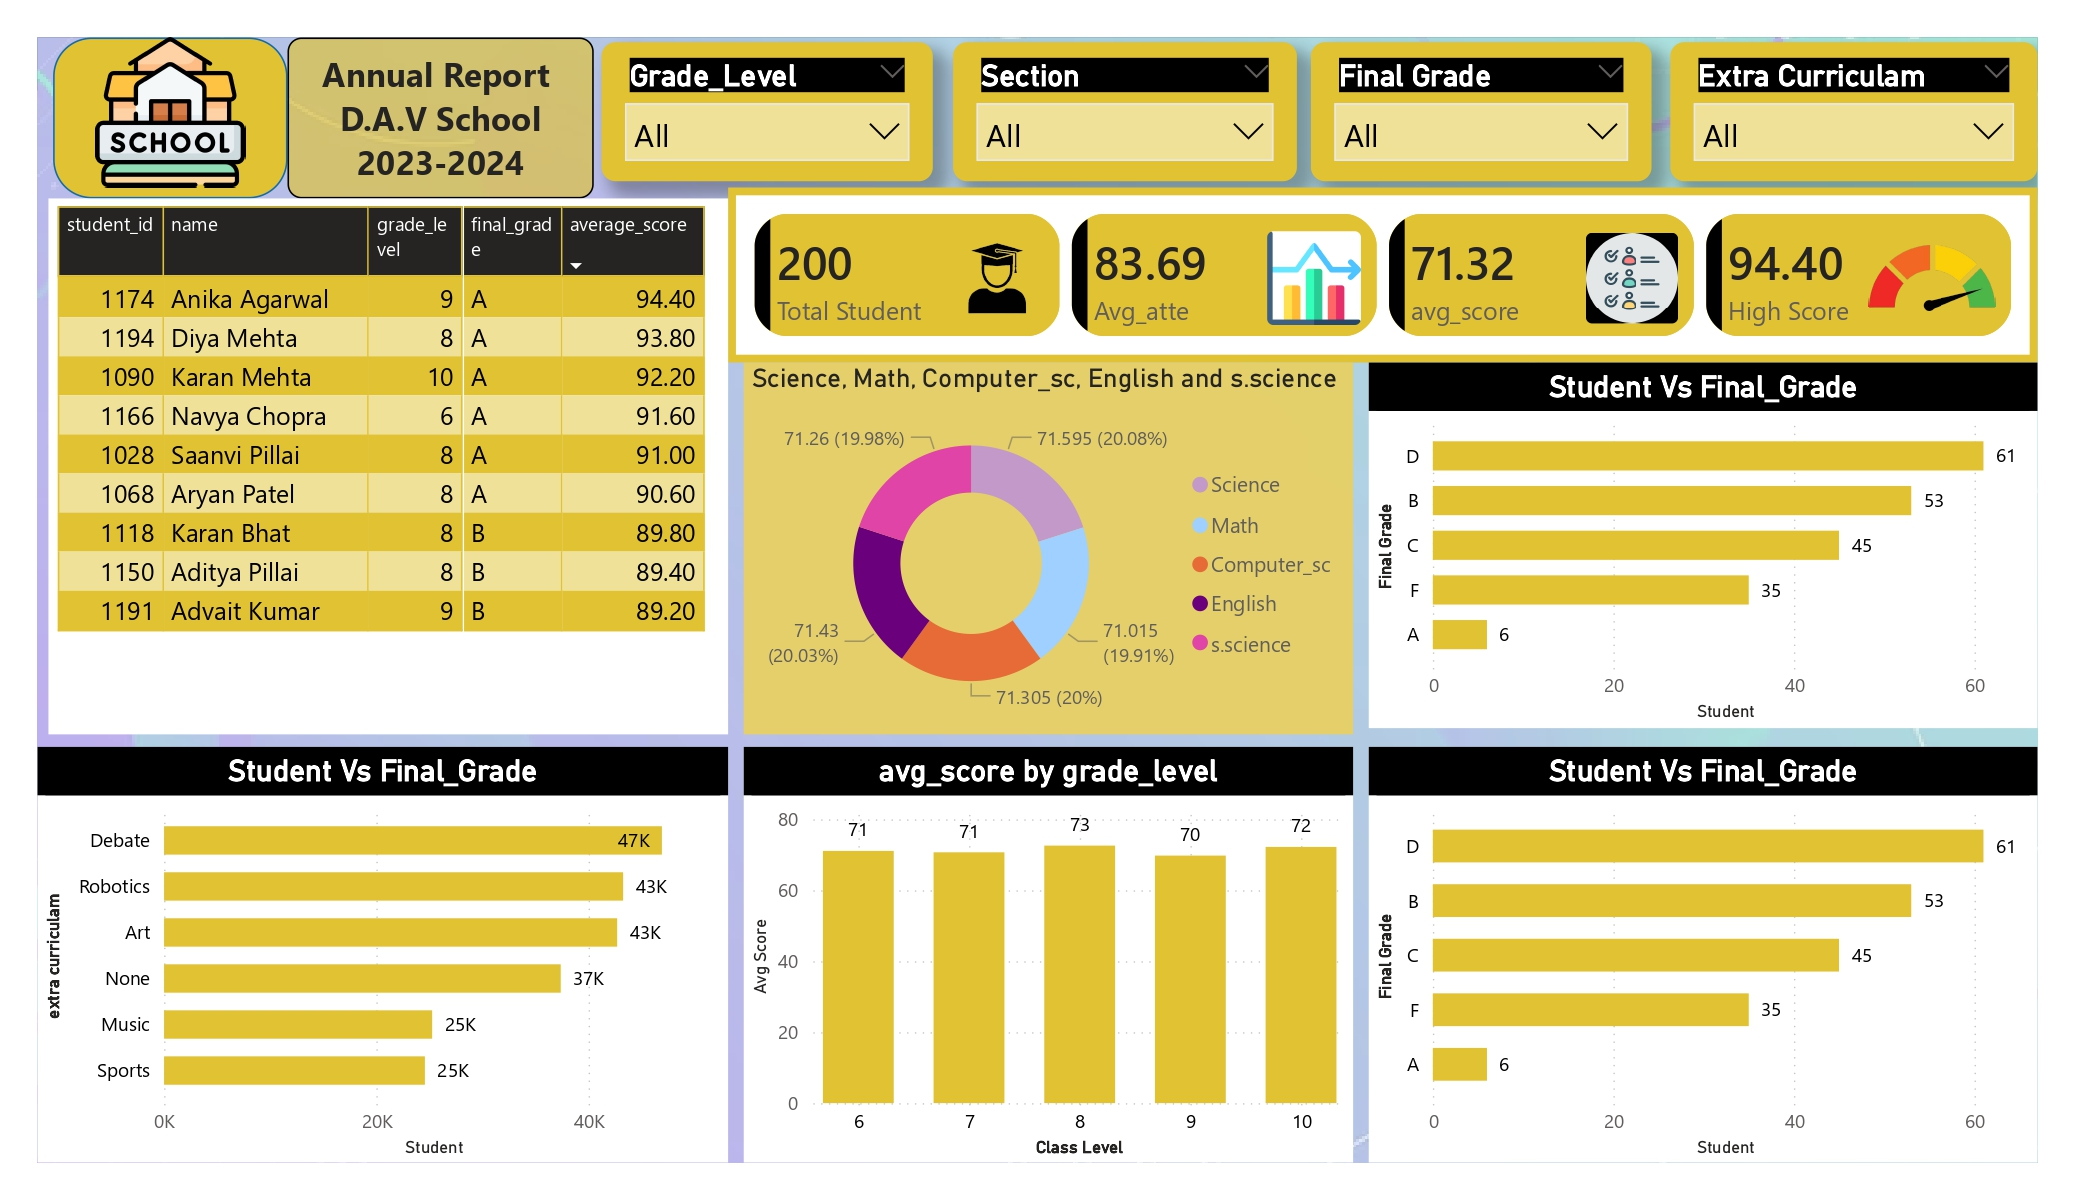

This screenshot's page, from the dashboard's own definition file:
{"tool":"powerbi","page":{"name":"School Dashboard","canvas":[1280,720],"ordinal":0},"visuals":[{"type":"shape","box":[9.9,0,150.2,103.5],"z":0},{"type":"image","box":[9.9,0,150.2,96.4],"z":1000},{"type":"textbox","box":[160.2,0,195.6,103.5],"z":2000},{"type":"slicer","fields":{"Values":["school_data.grade_level"]},"box":[361.2,3.4,211.7,89],"z":3000},{"type":"slicer","fields":{"Values":["school_data.section"]},"box":[586.2,3.4,220.1,89],"z":4000},{"type":"slicer","fields":{"Values":["school_data.final_grade"]},"box":[814.7,3.4,218.4,89],"z":5000},{"type":"slicer","fields":{"Values":["school_data.extracurricular"]},"box":[1044.8,3.4,235.2,89],"z":6000},{"type":"cardVisual","fields":{"Data":["school_data.Total Student","school_data.Avg_score","school_data.avg_score","school_data.High Score"]},"box":[441.8,95.7,838.2,112.5],"z":7000},{"type":"columnChart","fields":{"Category":["school_data.grade_level"],"Y":["school_data.avg_score"]},"box":[451.9,453.5,389.7,267.1],"z":8000},{"type":"barChart","title":" Student Vs Final_Grade","fields":{"Category":["school_data.final_grade"],"Y":["CountNonNull(school_data.student_id)"]},"box":[851.7,453.5,428.3,267.1],"z":9000},{"type":"barChart","title":" Student Vs Final_Grade","fields":{"Category":["school_data.extracurricular"],"Y":["Sum(school_data.student_id)"]},"box":[0,453.5,441.8,267.1],"z":10000},{"type":"barChart","title":" Student Vs Final_Grade","fields":{"Category":["school_data.final_grade"],"Y":["CountNonNull(school_data.student_id)"]},"box":[851.8,208.3,428,233.9],"z":11000},{"type":"tableEx","fields":{"Values":["school_data.student_id","school_data.name","school_data.grade_level","school_data.final_grade","school_data.average_score"]},"box":[7.1,103.5,435.1,343],"z":12000},{"type":"donutChart","fields":{"Y":["school_data.Science","school_data.Math","school_data.Computer_sc","school_data.English","school_data.s.science"]},"box":[452.1,208.3,389.8,238.1],"z":13000}]}

Visuals, with their boxes in screenshot pixels (x1, y1, x2, y2):
shape: [left=43, top=65, right=283, bottom=230]
image: [left=43, top=65, right=283, bottom=219]
textbox: [left=283, top=65, right=596, bottom=230]
slicer - school_data.grade_level: [left=604, top=70, right=943, bottom=213]
slicer - school_data.section: [left=964, top=70, right=1316, bottom=213]
slicer - school_data.final_grade: [left=1329, top=70, right=1679, bottom=213]
slicer - school_data.extracurricular: [left=1697, top=70, right=2073, bottom=213]
cardVisual - school_data.Total Student x school_data.Avg_score: [left=733, top=218, right=2073, bottom=398]
columnChart - school_data.grade_level x school_data.avg_score: [left=749, top=790, right=1372, bottom=1199]
" Student Vs Final_Grade" barChart: [left=1389, top=790, right=2073, bottom=1199]
" Student Vs Final_Grade" barChart: [left=27, top=790, right=733, bottom=1199]
" Student Vs Final_Grade" barChart: [left=1389, top=398, right=2073, bottom=772]
tableEx - school_data.student_id x school_data.name: [left=38, top=230, right=734, bottom=779]
donutChart - school_data.Science x school_data.Math: [left=750, top=398, right=1373, bottom=778]
